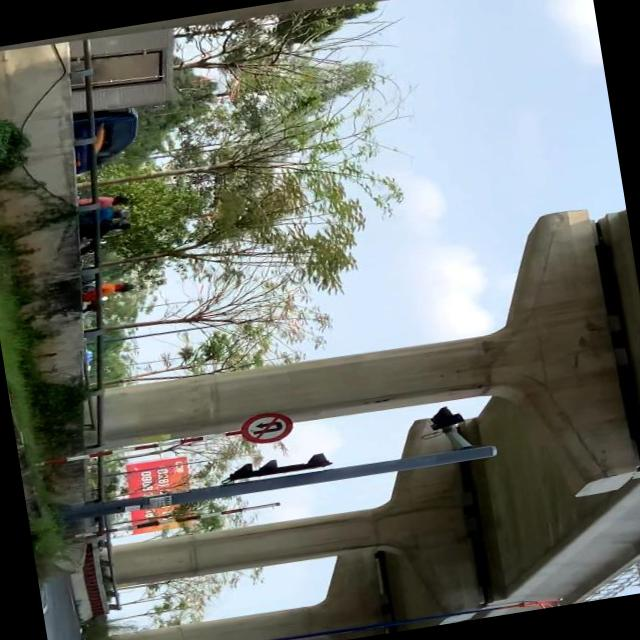P-124a1: (238, 410, 297, 448)
